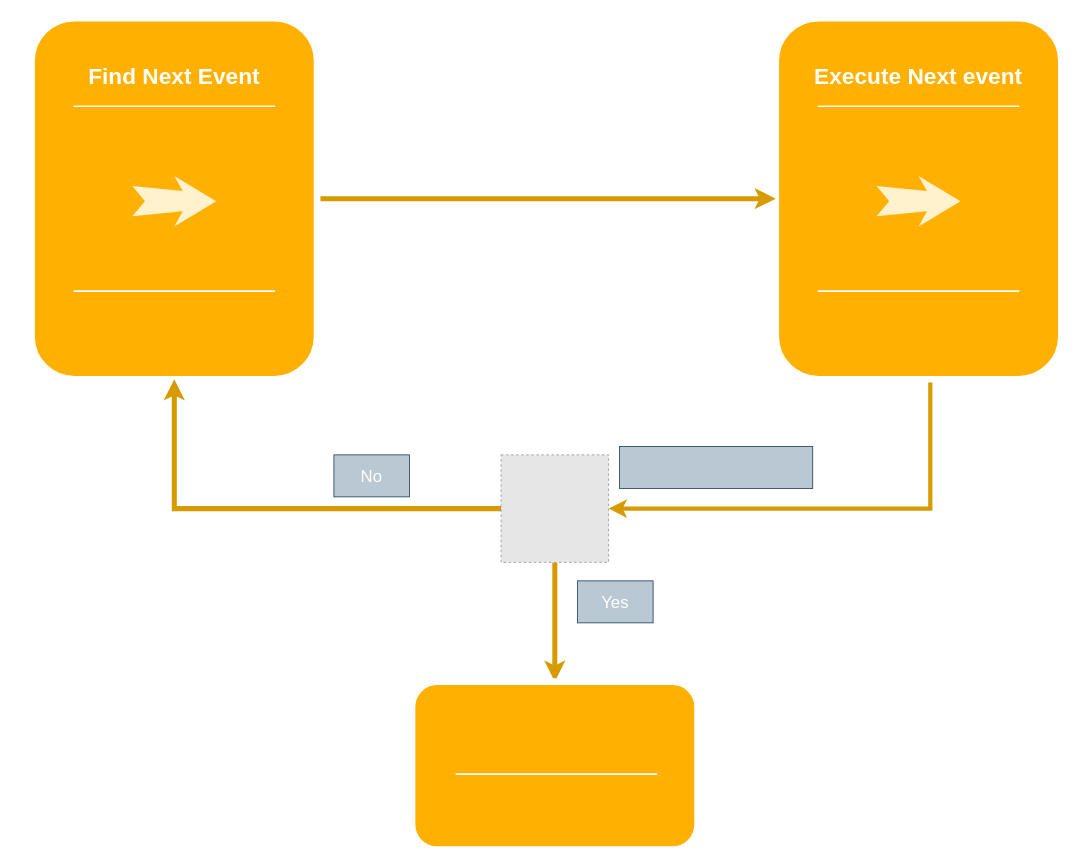
Image size: 1079x867. Some labels were removed from this diagram. Grey dashed boxes stand in for pictures. Each missing label, with the centre of its shape:
"End Of simulation" goes at (x=554, y=765).
"End simulation ?" goes at (x=716, y=467).
